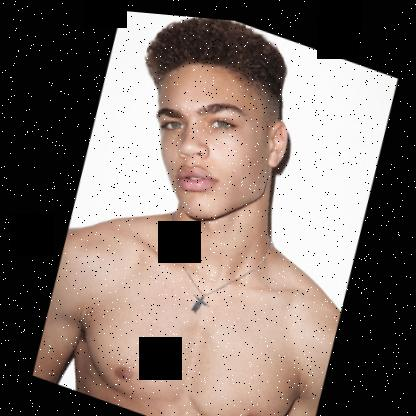Male: (126, 40, 303, 239)
